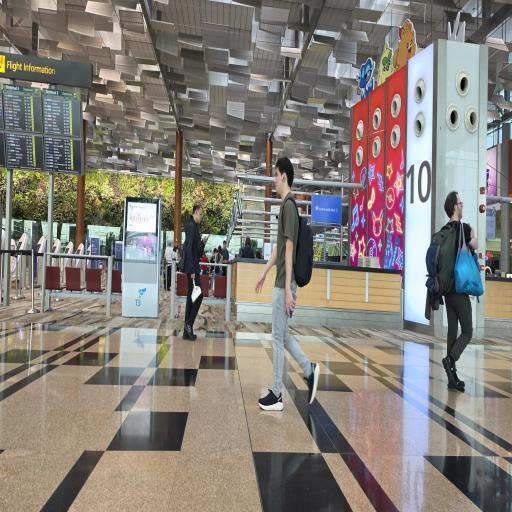person_left: (259, 152, 321, 416)
person_right: (423, 188, 482, 394), (174, 197, 212, 340)
